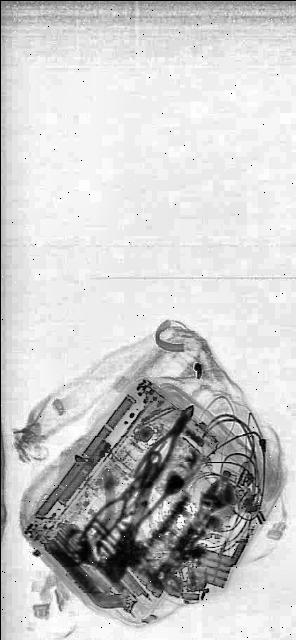Pliers: (131, 387, 197, 501), (75, 464, 141, 562)
